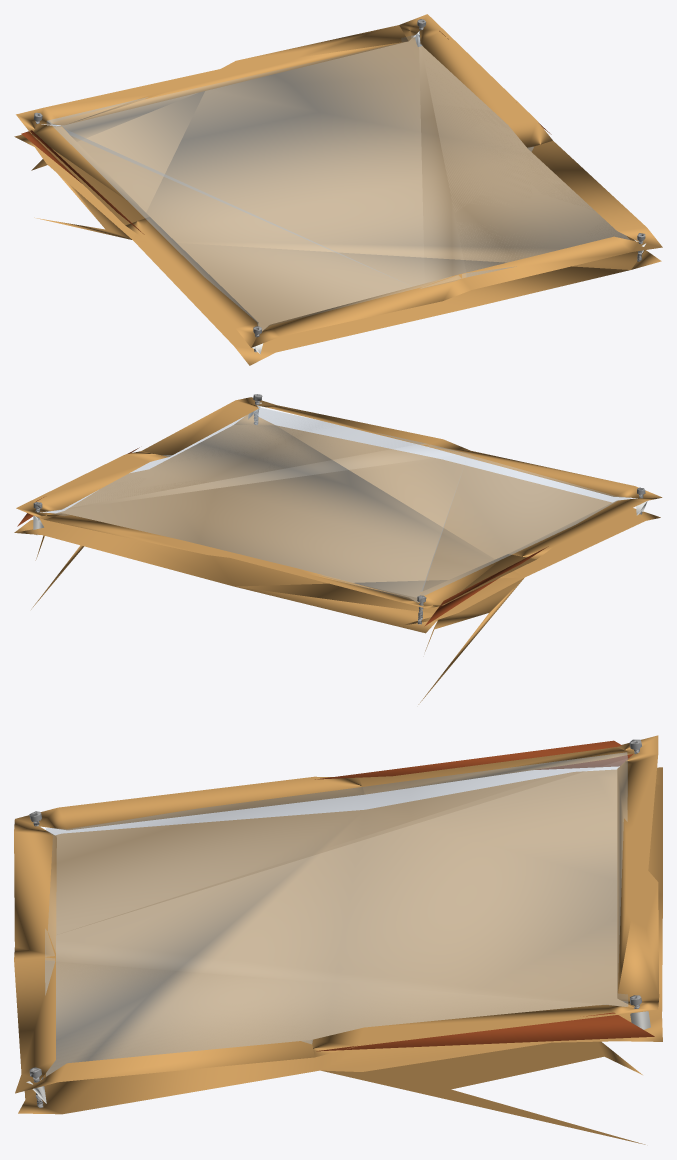
File: model-lite.lod0.glb
The picture shows the model from 3 angles, top to bottom: view 1: azimuth 30°, elevation 25°; view 2: azimuth 150°, elevation 25°; view 3: azimuth 270°, elevation 25°; orthographic projection. The views are drawn at different scales.
Visible parts, largest first — view 1: Body1, Body2, Body16; view 2: Body1, Body2, Body16, Body10; view 3: Body1, Body2, Body16, Body10.
Boxes of the visible parts, bbox=[...] form: Body1: bbox=[14, 14, 662, 365]; Body2: bbox=[46, 34, 629, 330]; Body16: bbox=[21, 31, 551, 234]; Body1: bbox=[14, 397, 662, 704]; Body2: bbox=[47, 407, 630, 602]; Body16: bbox=[17, 447, 548, 626]; Body10: bbox=[33, 394, 645, 624]; Body1: bbox=[14, 735, 662, 1144]; Body2: bbox=[45, 752, 628, 1076]; Body16: bbox=[315, 740, 654, 1051]; Body10: bbox=[29, 739, 641, 1107].
Bounding box in the file's own units: 29.21 × 7.25 × 29.17.
